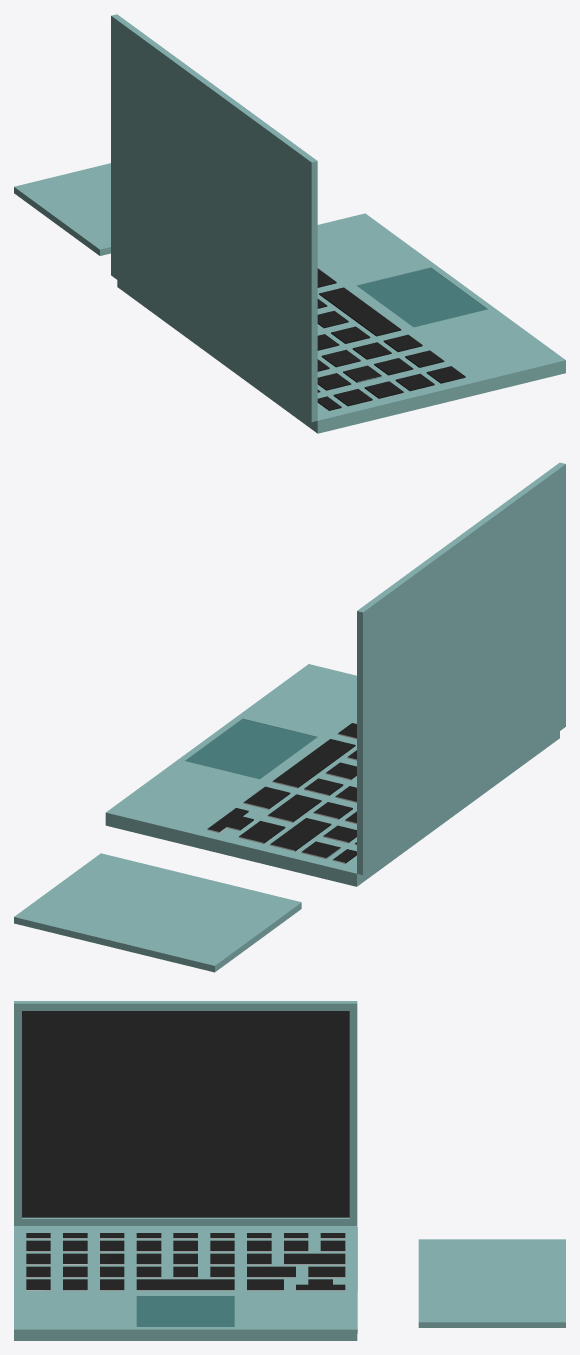
The model's file is laptop.glb.
The picture shows the model from 3 angles, top to bottom: view 1: azimuth 30°, elevation 25°; view 2: azimuth 150°, elevation 25°; view 3: azimuth 270°, elevation 25°; orthographic projection. The views are drawn at different scales.
Parts seen in each view (by area): view 1: laptop; view 2: laptop; view 3: laptop-screen, laptop.
Part boxes in pixels (x1=…): laptop: x1=14, y1=14, x2=565, y2=433; laptop: x1=14, y1=462, x2=565, y2=972; laptop-screen: x1=22, y1=1011, x2=349, y2=1217; laptop: x1=14, y1=1001, x2=565, y2=1340.
Size of the model in its own units: 4.1 by 4.2 by 9.
